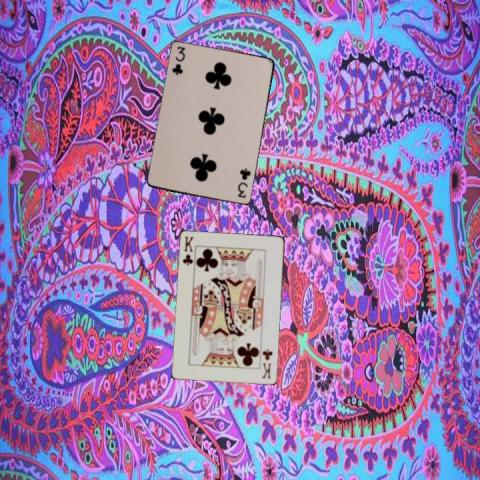3c: (169, 44, 187, 77), (235, 166, 252, 199)
Kc: (259, 346, 274, 380), (180, 234, 195, 267)
